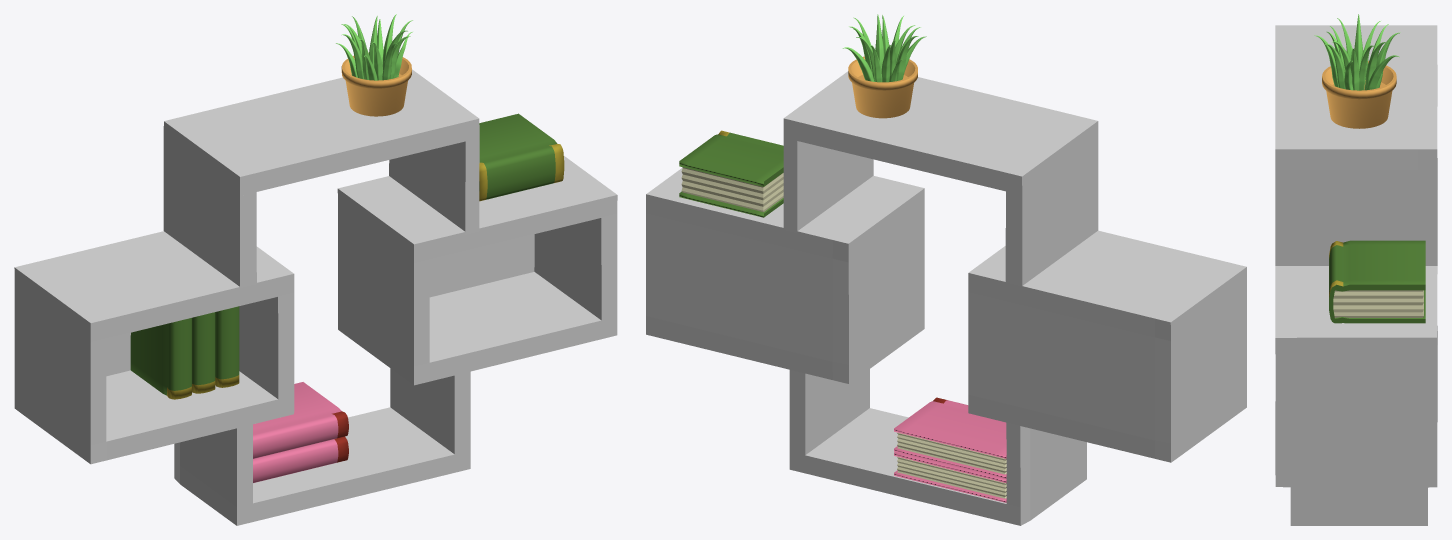
Rendered from shelves_tier7.fbx.
3 renders of one model, left to right at view 1: azimuth 30°, elevation 25°; view 2: azimuth 150°, elevation 25°; view 3: azimuth 270°, elevation 25°, orthographic. The views are drawn at different scales.
Visible parts, largest first — view 1: Cube.001, Cube.006, Cube.008, Cube.009, BezierCurve.014, Cylinder, Cube.007, Cube.005, Cube.004; view 2: Cube.001, Cube.006, Cube.008, Cube.007, BezierCurve.014, Cylinder; view 3: Cube.001, Cube.006, BezierCurve.014, Cylinder.
Boxes of the visible parts, x1,y1,x2,y2 form: Cube.001: (14, 69, 617, 525); Cube.006: (479, 113, 564, 201); Cube.008: (253, 382, 348, 458); Cube.009: (130, 318, 191, 399); BezierCurve.014: (336, 14, 412, 80); Cylinder: (341, 53, 411, 116); Cube.007: (253, 436, 348, 482); Cube.005: (215, 306, 239, 387); Cube.004: (192, 312, 215, 393); Cube.001: (646, 71, 1246, 525); Cube.006: (679, 130, 783, 217); Cube.008: (894, 397, 1006, 478); Cube.007: (894, 452, 1006, 502); BezierCurve.014: (842, 14, 926, 82); Cylinder: (848, 56, 917, 118); Cube.001: (1275, 25, 1437, 525); Cube.006: (1329, 240, 1425, 323); BezierCurve.014: (1314, 14, 1400, 90); Cylinder: (1322, 61, 1396, 128).
Bounding box in the file's own units: 207 × 163 × 52.04.
